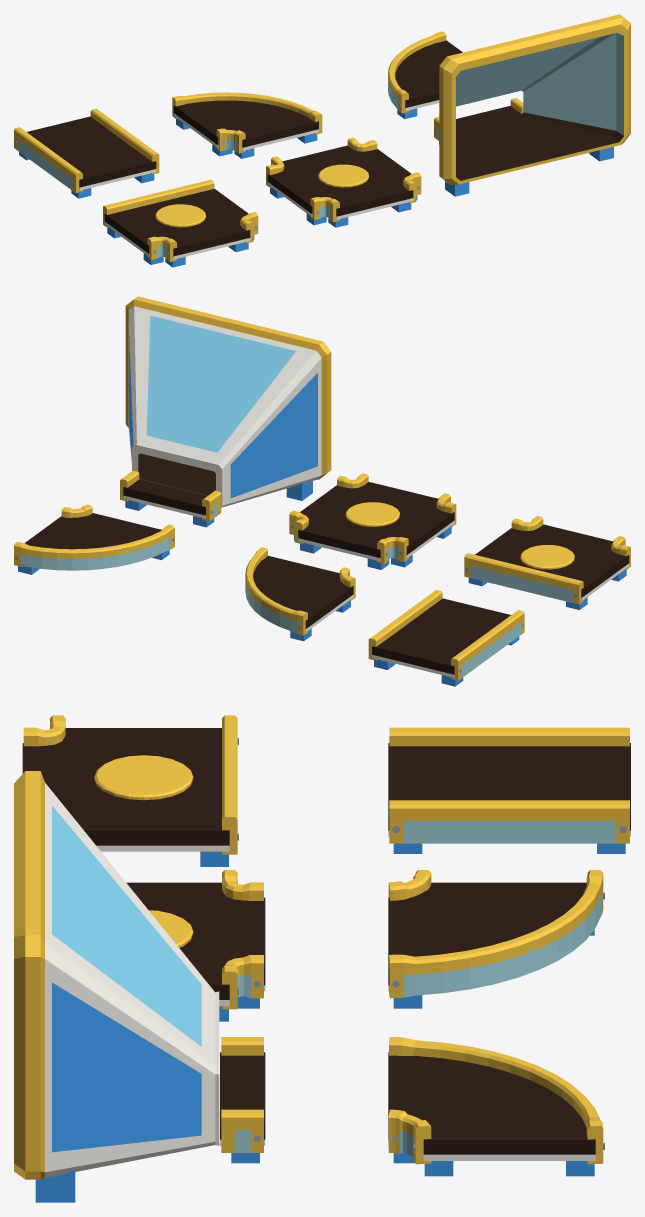
Rendered from ClassicConveyorKit.glb.
3 renders of one model, top to bottom at view 1: azimuth 30°, elevation 25°; view 2: azimuth 150°, elevation 25°; view 3: azimuth 270°, elevation 25°, orthographic. The views are drawn at different scales.
Visible parts, largest first — view 1: TowerAdapter, Cross, Tee, Straight, TurnLeft, TurnRight; view 2: TowerAdapter, Cross, Tee, Straight, TurnRight, TurnLeft; view 3: TowerAdapter, Straight, Tee, TurnRight, TurnLeft, Cross.
Boxes of the visible parts, bbox=[...] form: TowerAdapter: bbox=[434, 14, 630, 196]; Cross: bbox=[266, 137, 421, 227]; Tee: bbox=[103, 179, 258, 267]; Straight: bbox=[14, 108, 159, 198]; TurnLeft: bbox=[172, 92, 322, 158]; TurnRight: bbox=[388, 31, 462, 119]; TowerAdapter: bbox=[120, 296, 331, 527]; Cross: bbox=[289, 473, 456, 569]; Tee: bbox=[464, 516, 630, 609]; Straight: bbox=[368, 590, 524, 686]; TurnRight: bbox=[14, 504, 174, 574]; TurnLeft: bbox=[245, 547, 355, 641]; TowerAdapter: bbox=[14, 771, 265, 1202]; Straight: bbox=[388, 727, 630, 853]; Tee: bbox=[22, 715, 238, 866]; TurnRight: bbox=[388, 1037, 604, 1176]; TurnLeft: bbox=[388, 869, 604, 1008]; Cross: bbox=[126, 870, 265, 1021].
Bounding box in the file's own units: 4.88 × 1.39 × 2.83.
Materials: 1 (1 with a texture image).
